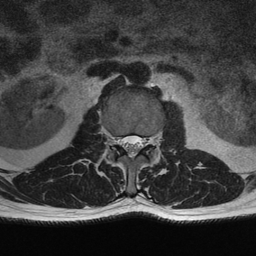CCS_normal: (128, 128, 136, 165)
LFS_normal: (144, 129, 152, 152)
LLS_normal: (136, 128, 144, 158)
RFS_normal: (111, 128, 119, 151)
RLS_normal: (120, 129, 128, 154)
